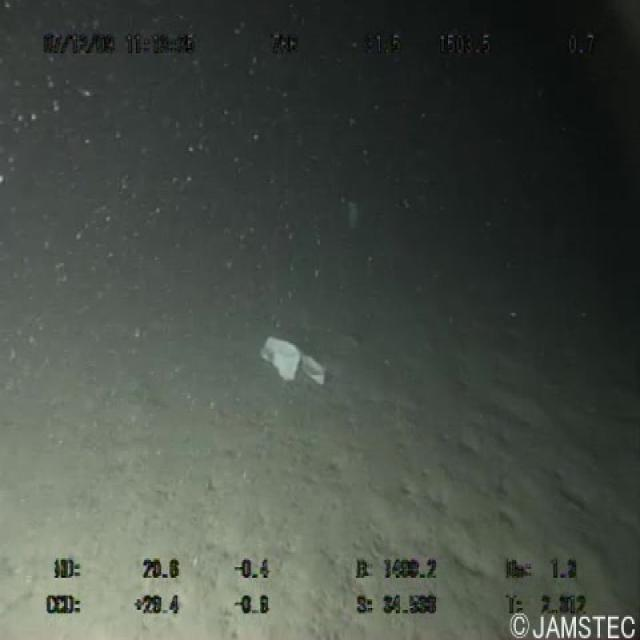plastic: (254, 326, 330, 398)
